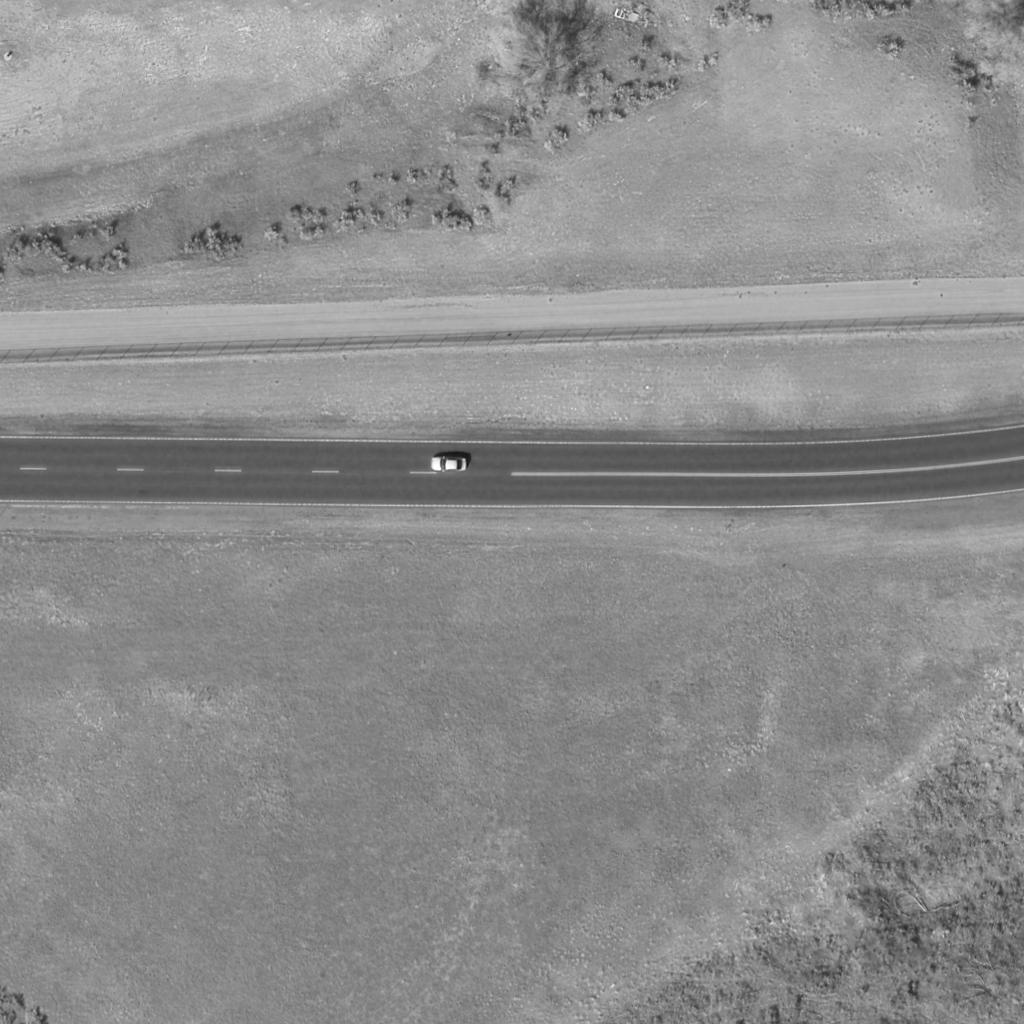vehicle: (431, 458, 467, 472)
